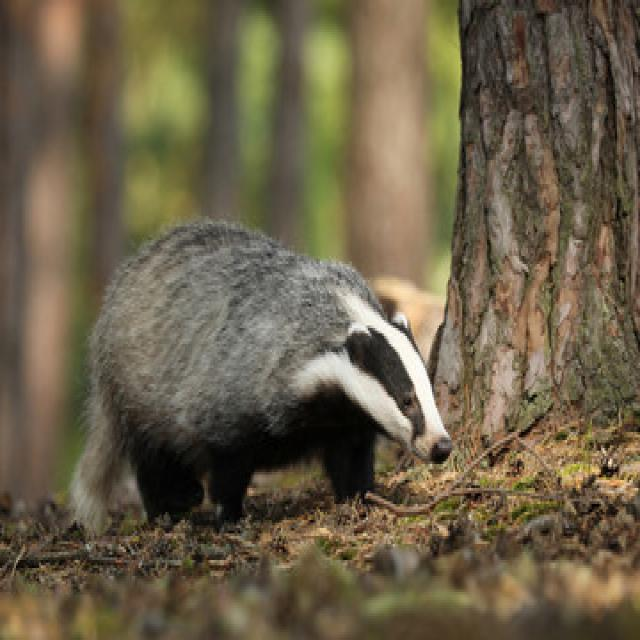badger: (69, 213, 457, 540)
